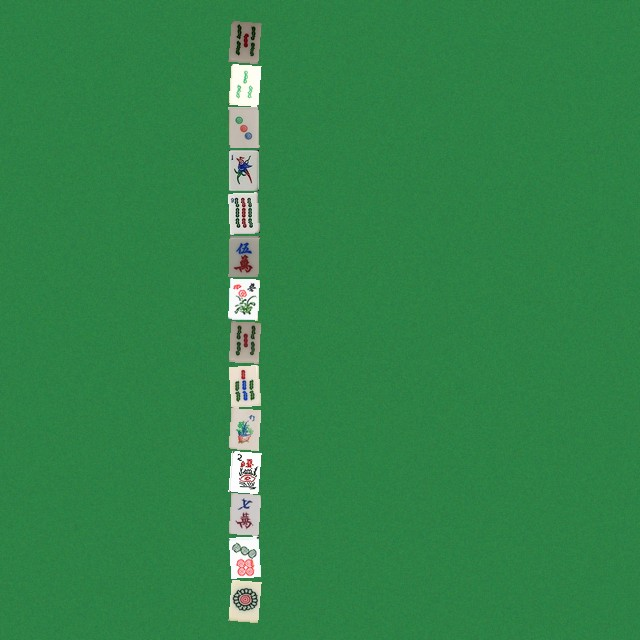tile: (228, 20, 258, 61), (228, 63, 258, 104), (228, 106, 258, 147), (228, 149, 258, 190), (228, 192, 258, 233), (228, 235, 258, 276), (228, 278, 258, 319), (228, 321, 258, 362), (228, 364, 258, 405), (228, 407, 258, 448), (228, 450, 258, 491), (228, 493, 258, 534), (228, 536, 258, 577), (228, 579, 258, 620)
